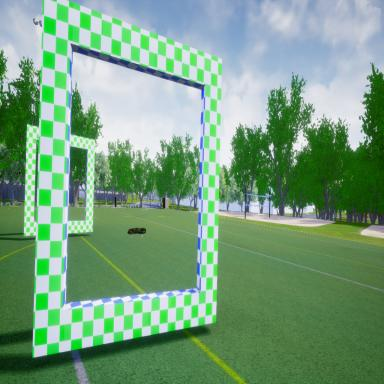gate: (30, 0, 225, 368), (22, 124, 99, 242)
